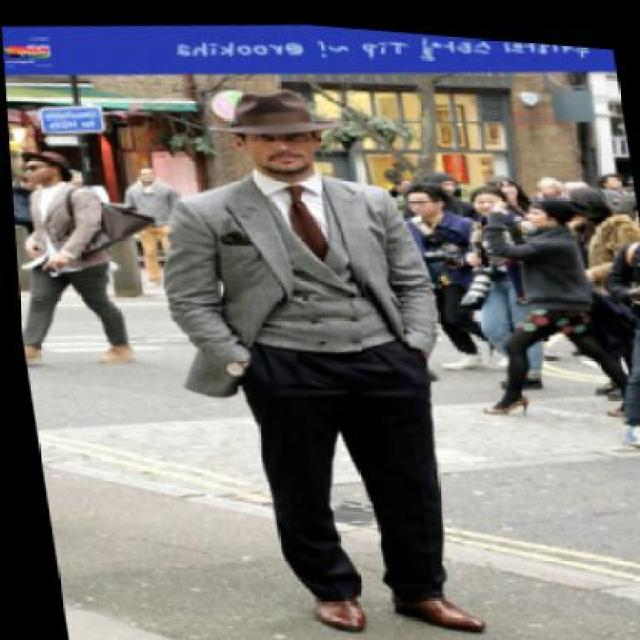hat: (199, 74, 343, 144)
